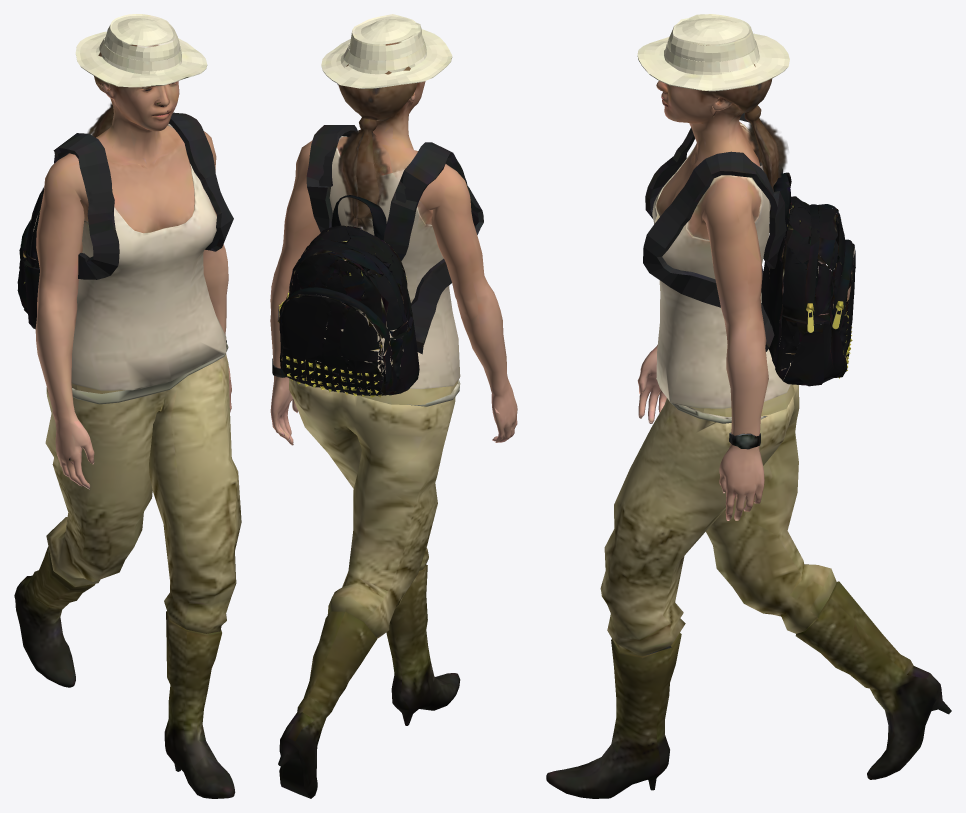
The picture shows the model from 3 angles, left to right: view 1: azimuth 30°, elevation 25°; view 2: azimuth 150°, elevation 25°; view 3: azimuth 270°, elevation 25°; orthographic projection. The views are drawn at different scales.
Visible parts, largest first — view 1: p04949; view 2: p04949; view 3: p04949.
Part boxes in pixels (x1,y1,x2,y2): p04949: (14, 14, 241, 798); p04949: (270, 14, 517, 798); p04949: (546, 14, 951, 798).
Bounding box in the file's own units: 0.4938 × 1.65 × 0.7975.
1 material, 1 textured.
